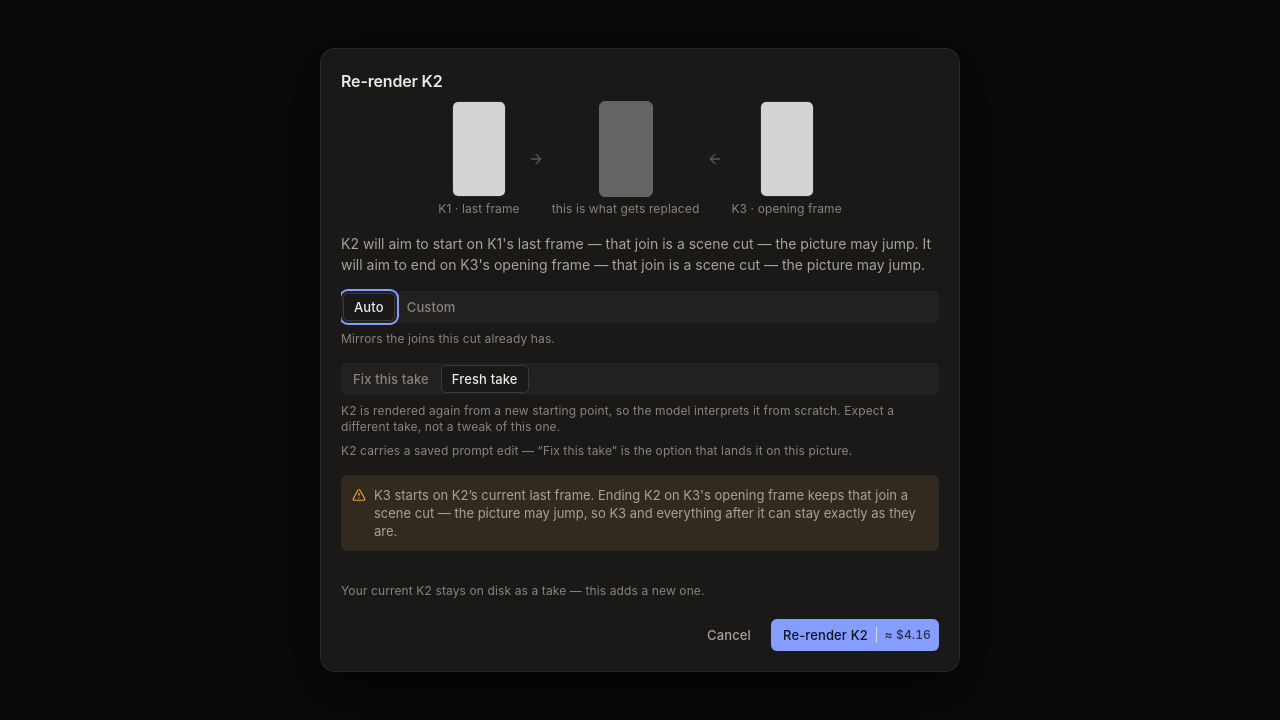
Test case: SegmentRerenderDialog — fix this take vs fresh take › a saved prompt edit sharpens the fix sentence and nudges — it never moves the selection
Expected: the text with test id "regen-edit-hint" shows "K2 carries a saved prompt edit", [341,443,939,459]
Click the radio button labelled "Fix this take" at (391,379), box [343,365,439,393]
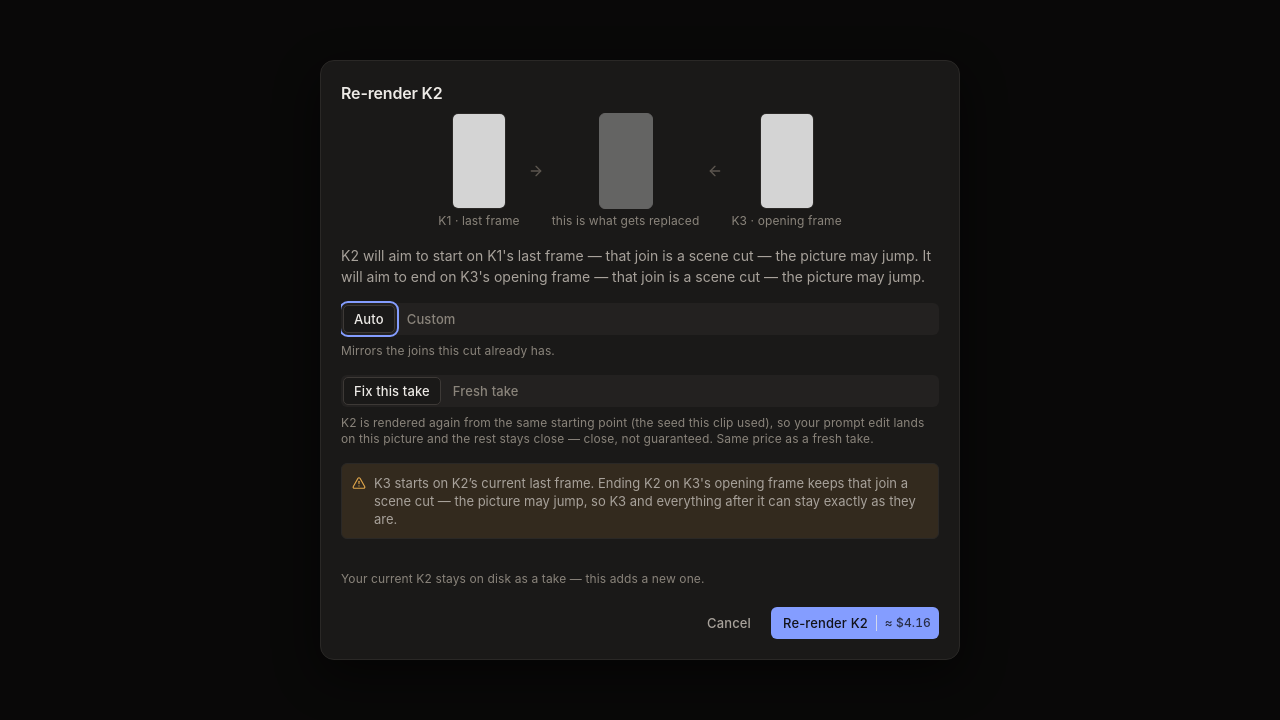
Expected: the text with test id "regen-mode-sentence" shows "your prompt edit lands on this picture", [341,415,924,446]
Expected: the text with test id "regen-mode-sentence" shows "close, not guaranteed", [341,415,924,446]
Expected: the text with test id "regen-edit-hint" is gone
